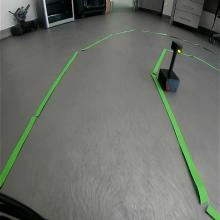green: (170, 40, 183, 55)
